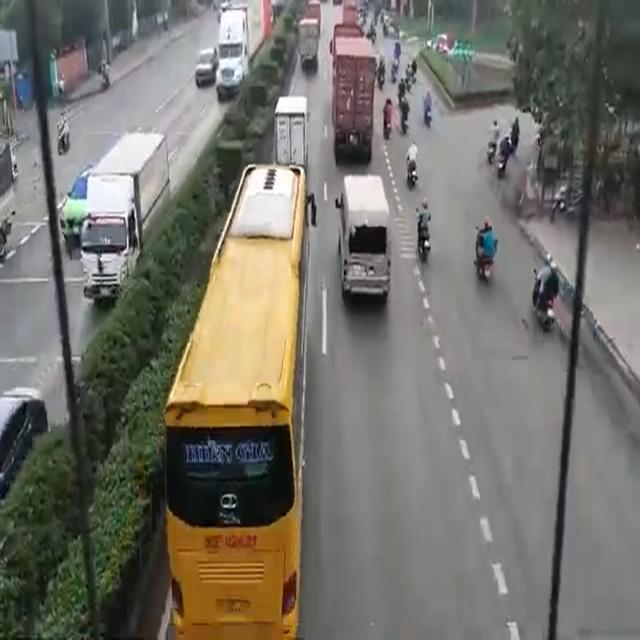bus: (168, 165, 307, 638)
car: (339, 170, 389, 298)
motor: (530, 263, 558, 327), (415, 208, 436, 270), (478, 226, 493, 289), (484, 123, 498, 162), (407, 145, 418, 187), (385, 92, 392, 146), (422, 93, 430, 132), (400, 95, 410, 126)
truck: (84, 129, 164, 302), (332, 30, 376, 160), (276, 89, 310, 186)
